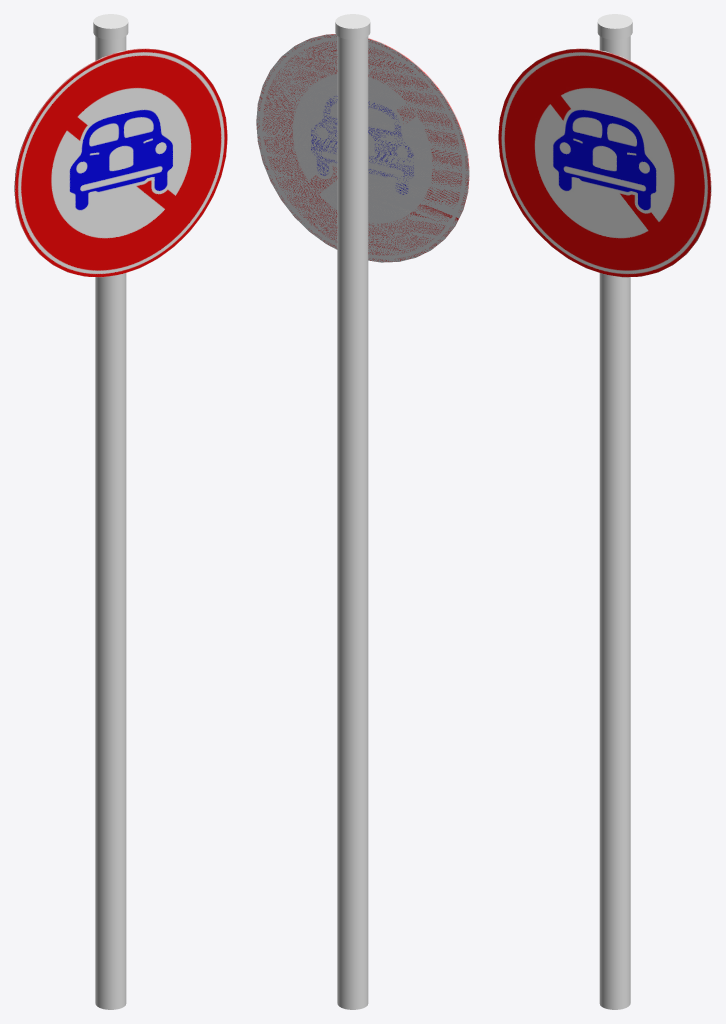
The picture shows the model from 3 angles, left to right: view 1: azimuth 30°, elevation 25°; view 2: azimuth 150°, elevation 25°; view 3: azimuth 330°, elevation 25°; orthographic projection.
Parts seen in each view (by area): view 1: group_0, 支柱1 (×2); view 2: 支柱1 (×2), group_0; view 3: group_0, 支柱1 (×2).
Boxes of the visible parts, left/top/right/bottom form: group_0: left=14, top=48, right=227, bottom=277; 支柱1 (×2): left=93, top=14, right=128, bottom=1009; 支柱1 (×2): left=335, top=14, right=370, bottom=1009; group_0: left=256, top=34, right=468, bottom=262; group_0: left=498, top=48, right=711, bottom=277; 支柱1 (×2): left=597, top=14, right=632, bottom=1009.
Size of the model in its own units: 23.23 by 3.63 by 102.
Materials: 3 (1 with a texture image).
